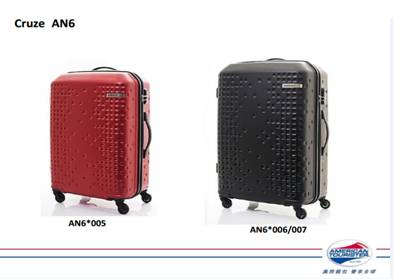suitcase: (214, 55, 338, 223), (48, 65, 155, 215)
